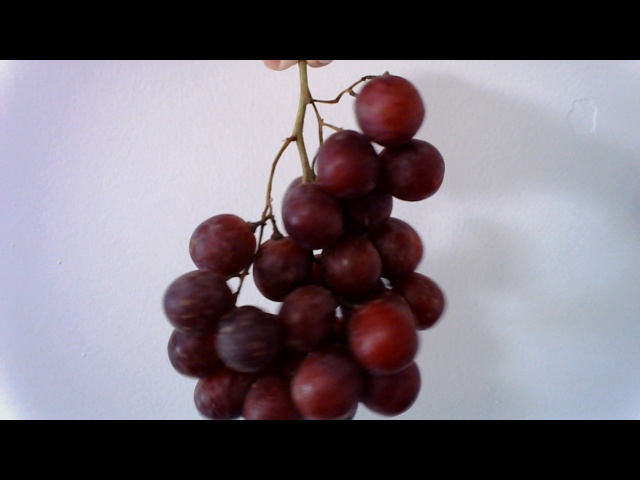grape: (168, 74, 446, 420)
